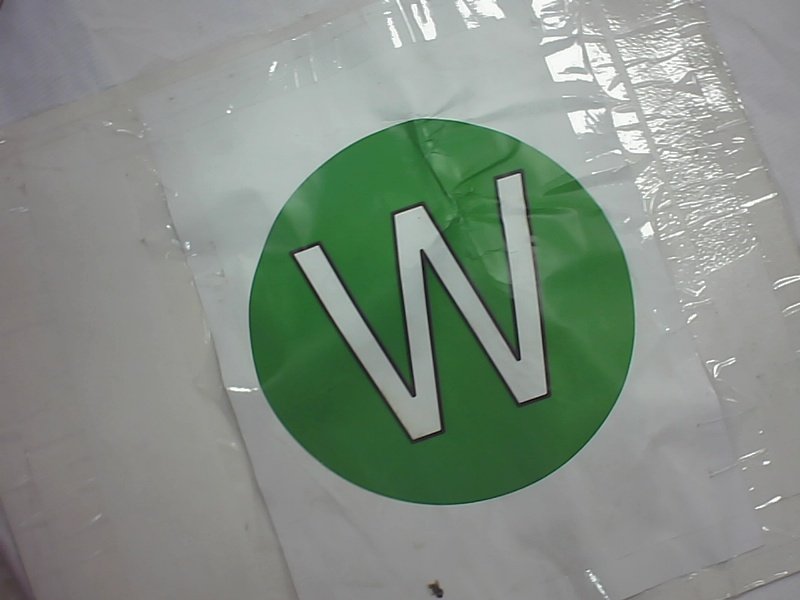areaB: (226, 115, 646, 509)
